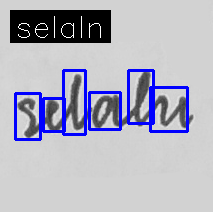a: (91, 92, 122, 131)
e: (41, 97, 62, 134)
l: (64, 71, 89, 131), (130, 69, 154, 128)
s: (16, 96, 38, 140)
u: (156, 92, 190, 130)
